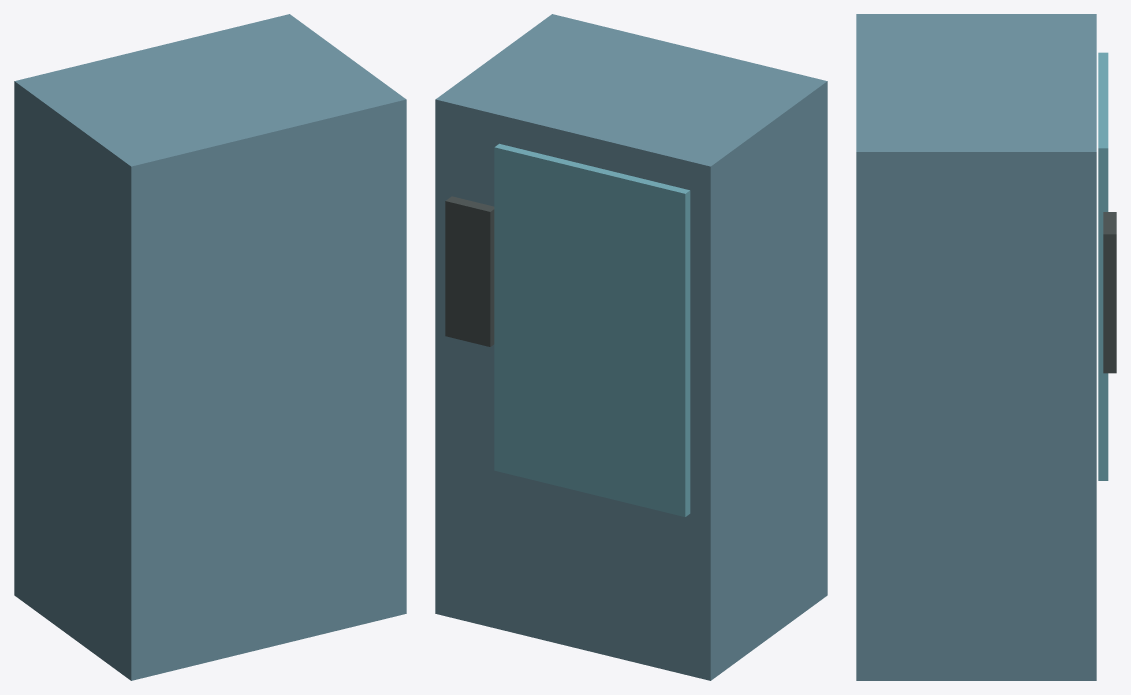
Rendered from PRP_STREET_008_vending_machine.glb.
3 renders of one model, left to right at view 1: azimuth 30°, elevation 25°; view 2: azimuth 150°, elevation 25°; view 3: azimuth 270°, elevation 25°, orthographic. The views are drawn at different scales.
Visible parts, largest first — view 1: Part_01, Part_02, Part_04; view 2: Part_00, Part_06, Part_02, Part_04, Part_12, Part_08, Part_10, Part_14; view 3: Part_03, Part_04, Part_09, Part_15, Part_10.
Part boxes in pixels (bbox=[...]): Part_01: bbox=[131, 99, 406, 680]; Part_02: bbox=[14, 81, 131, 680]; Part_04: bbox=[15, 14, 405, 166]; Part_00: bbox=[435, 99, 710, 680]; Part_06: bbox=[494, 147, 685, 516]; Part_02: bbox=[710, 81, 827, 680]; Part_04: bbox=[436, 14, 826, 166]; Part_12: bbox=[445, 201, 490, 346]; Part_08: bbox=[685, 190, 690, 516]; Part_10: bbox=[495, 143, 689, 193]; Part_14: bbox=[490, 209, 494, 346]; Part_03: bbox=[856, 152, 1096, 680]; Part_04: bbox=[856, 14, 1096, 151]; Part_09: bbox=[1098, 148, 1108, 480]; Part_15: bbox=[1103, 234, 1116, 373]; Part_10: bbox=[1098, 52, 1108, 148].
Size of the model in its own units: 0.98 by 1.75 by 0.78.
